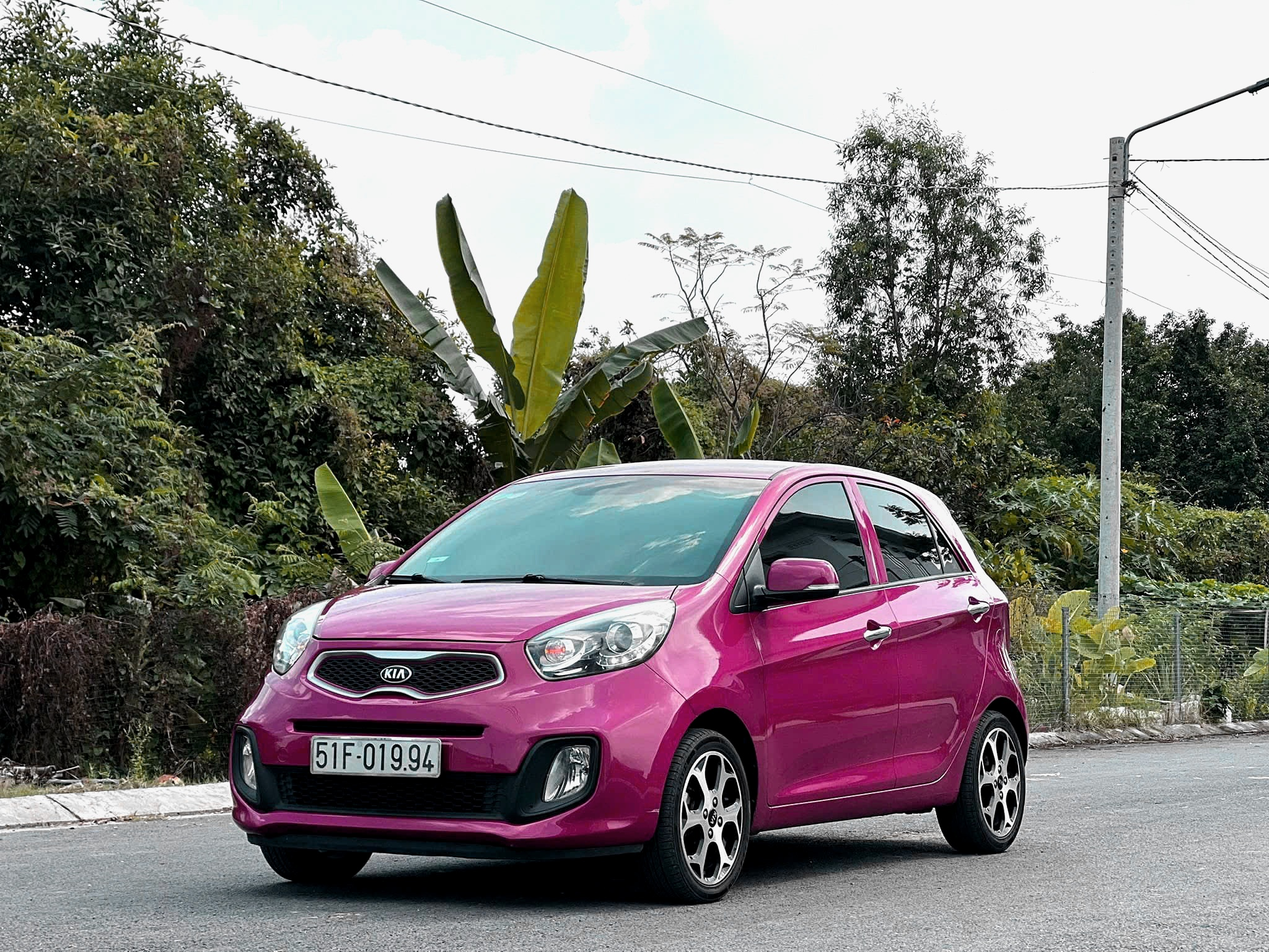Bien-so: (319, 744, 448, 799)
